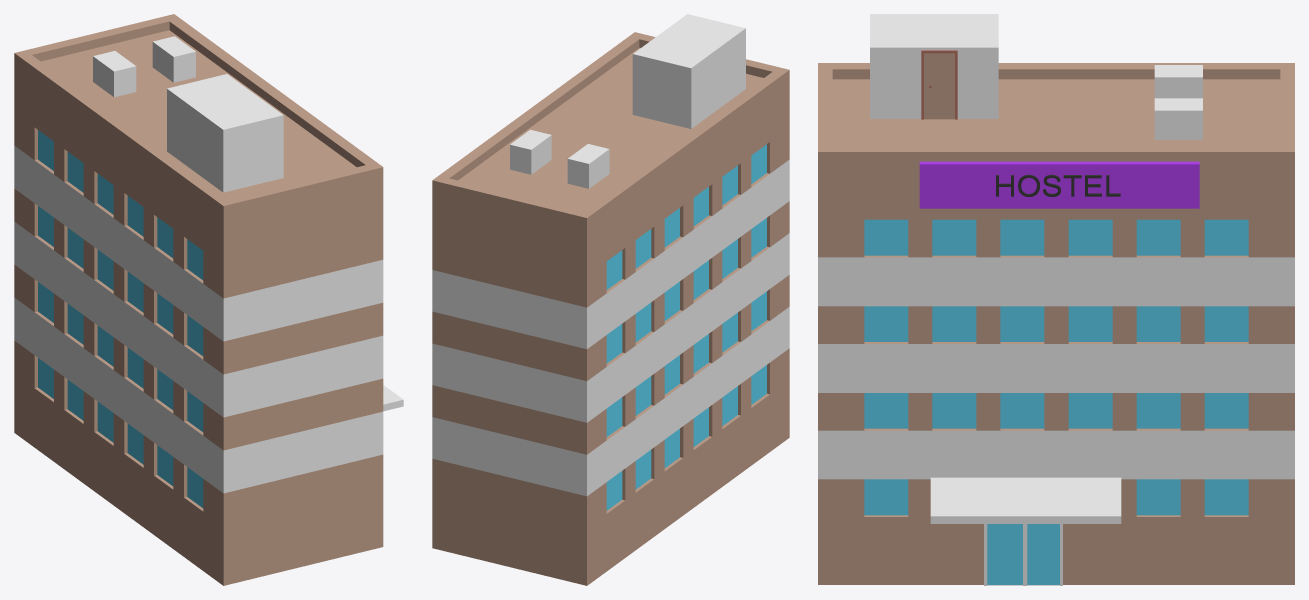
File: Hostel.gltf
3 views of the same model, side by side, from view 1: azimuth 30°, elevation 25°; view 2: azimuth 150°, elevation 25°; view 3: azimuth 270°, elevation 25° (orthographic). The views are drawn at different scales.
Parts seen in each view (by area): view 1: node-0; view 2: node-0; view 3: node-0.
Boxes of the visible parts, box(x1,y1,x2,y2) form: node-0: box(14, 14, 403, 585); node-0: box(432, 14, 789, 585); node-0: box(818, 14, 1294, 585).
Size of the model in its own units: 74477 by 134635 by 117611.
